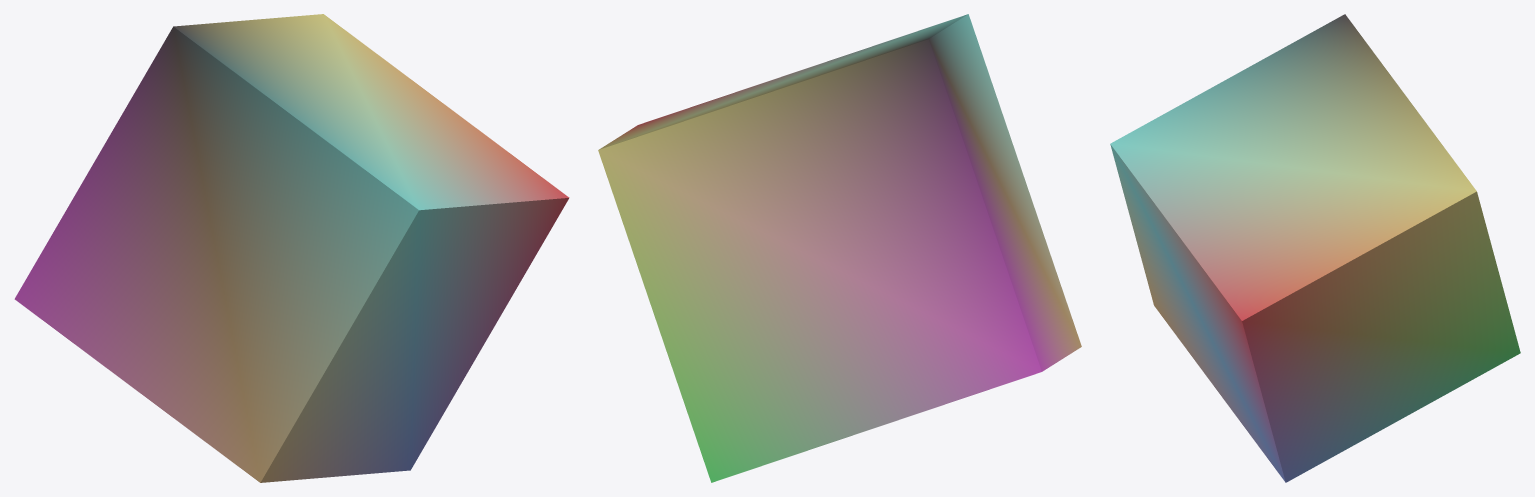
File: vertexColorCube.glb
The picture shows the model from 3 angles, left to right: view 1: azimuth 30°, elevation 25°; view 2: azimuth 150°, elevation 25°; view 3: azimuth 270°, elevation 25°; orthographic projection. The views are drawn at different scales.
Parts seen in each view (by area): view 1: Cube; view 2: Cube; view 3: Cube.
Part boxes in pixels (x1,y1,x2,y2): Cube: (14, 14, 569, 482); Cube: (598, 14, 1081, 482); Cube: (1110, 14, 1520, 482).
Size of the model in its own units: 0.1637 by 0.1566 by 0.1504.
